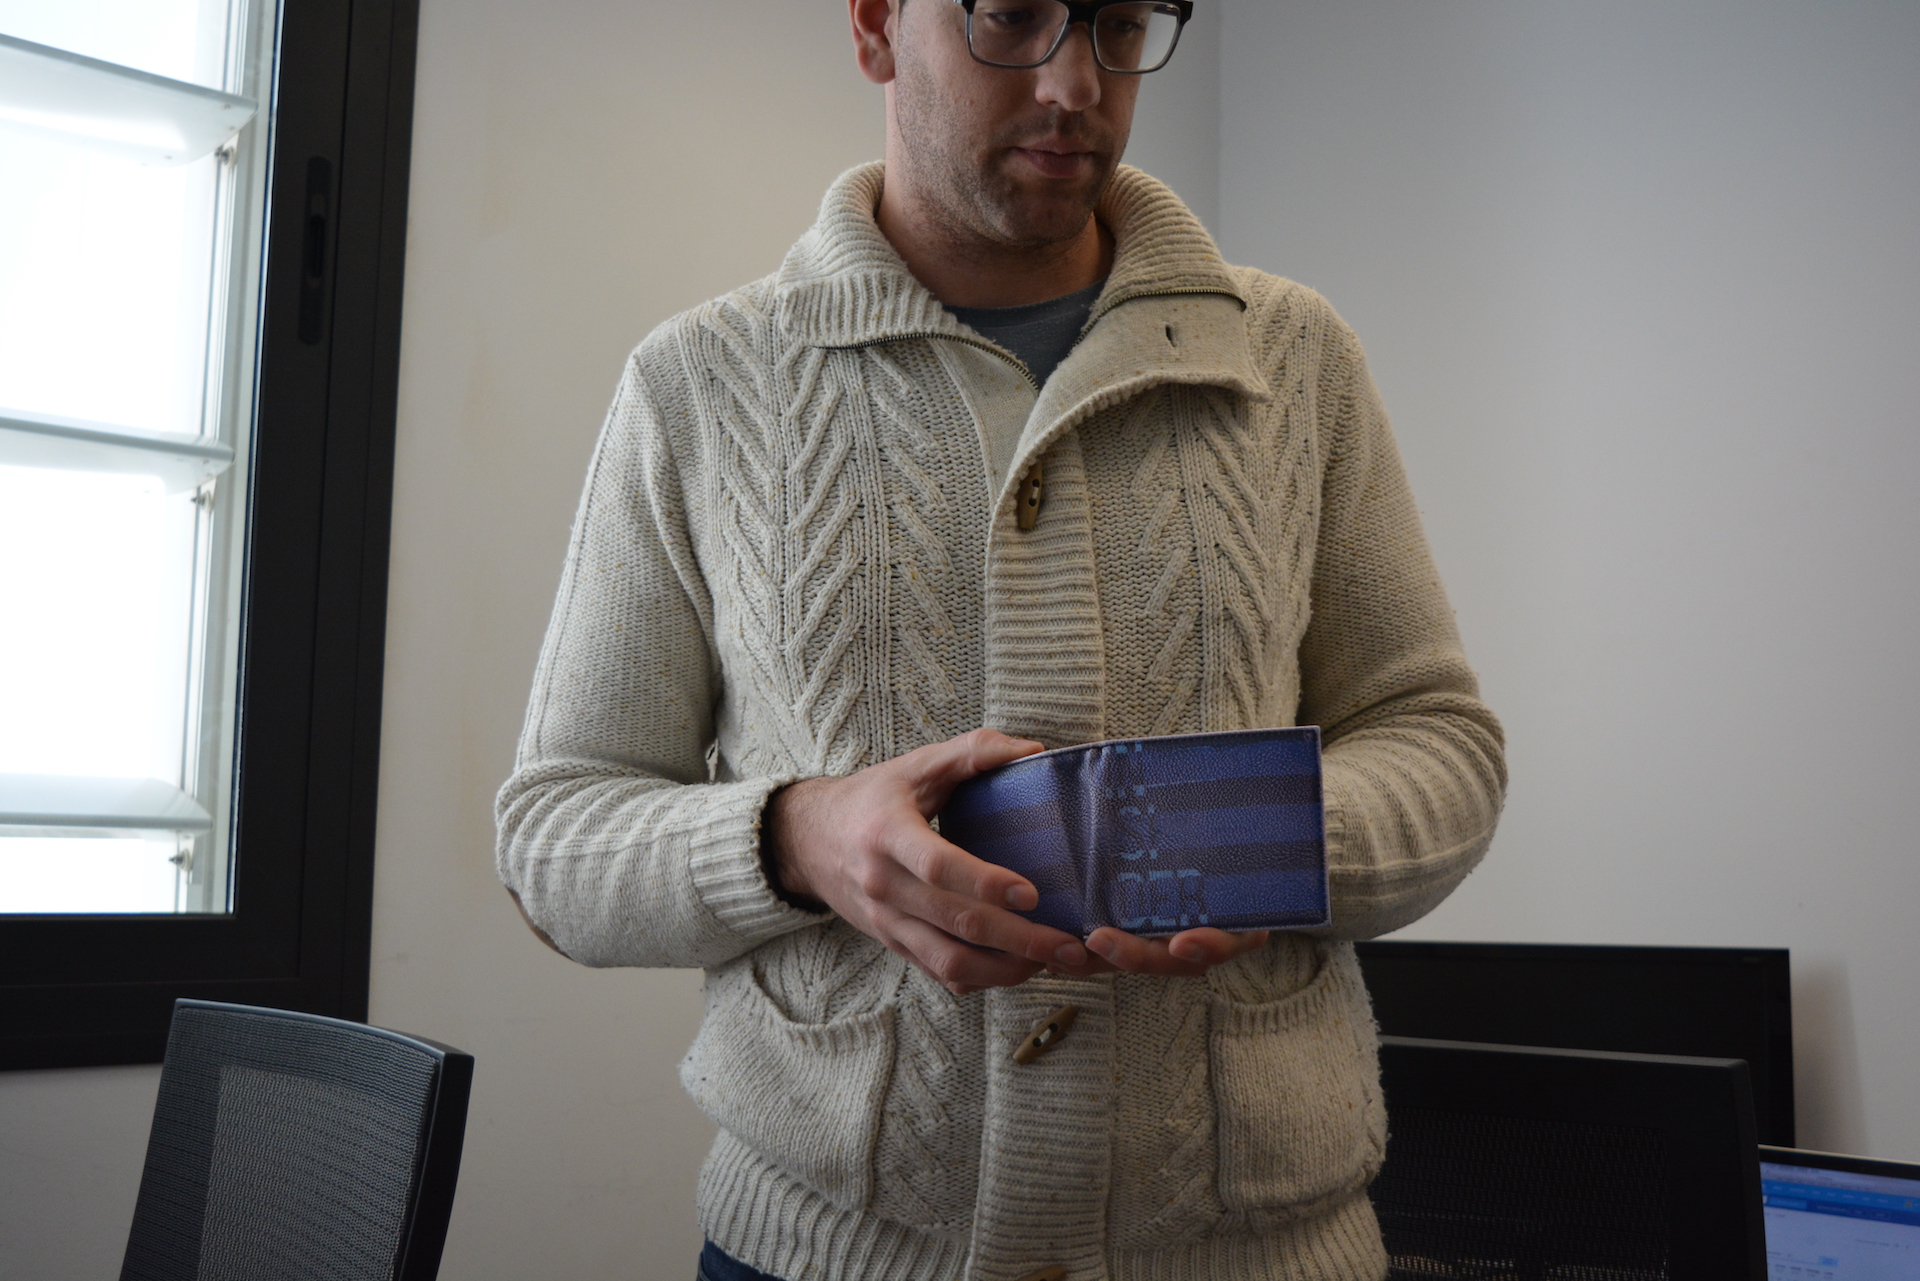monedero: (935, 721, 1335, 948)
